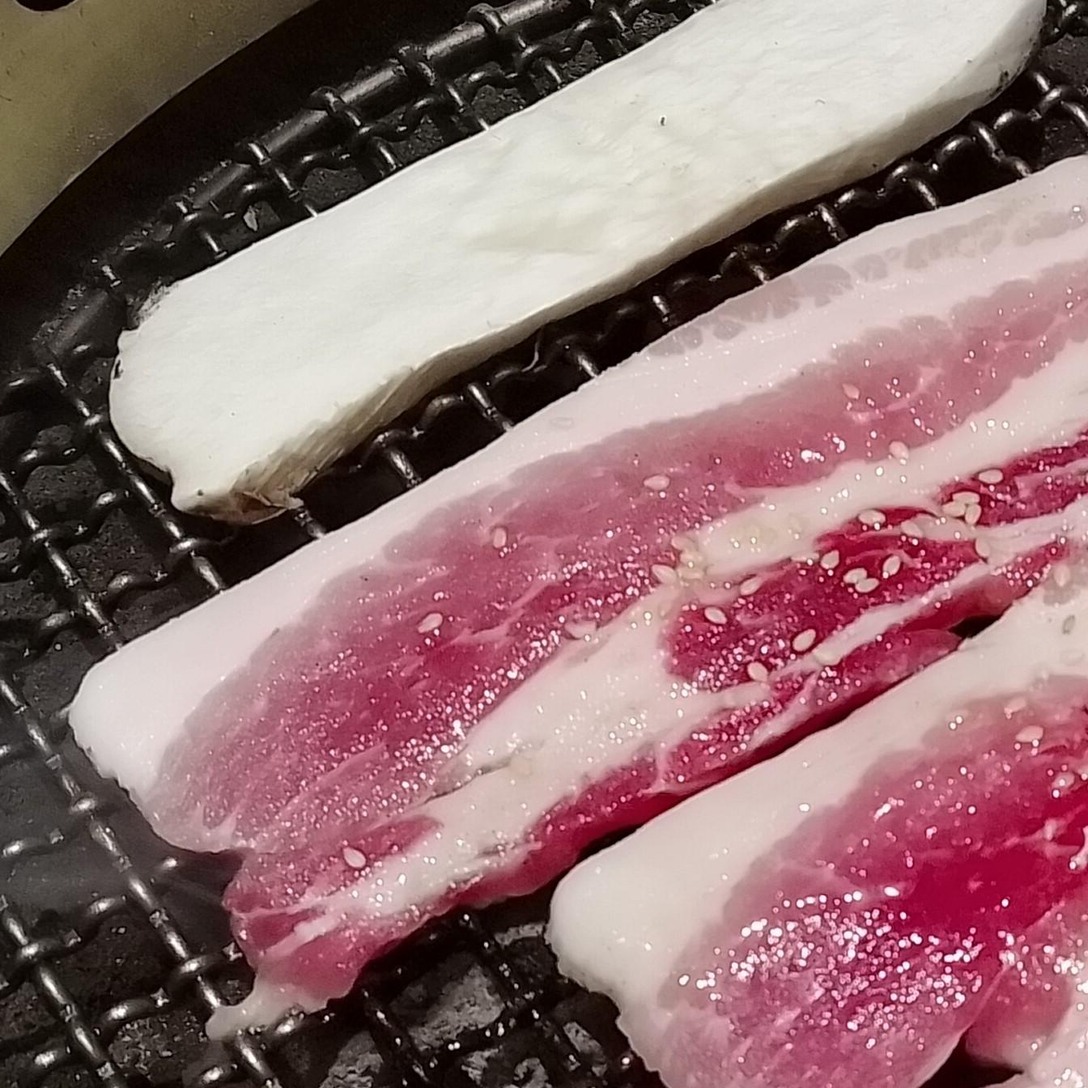Undercooked: (70, 158, 1087, 1035), (547, 559, 1087, 1087)
